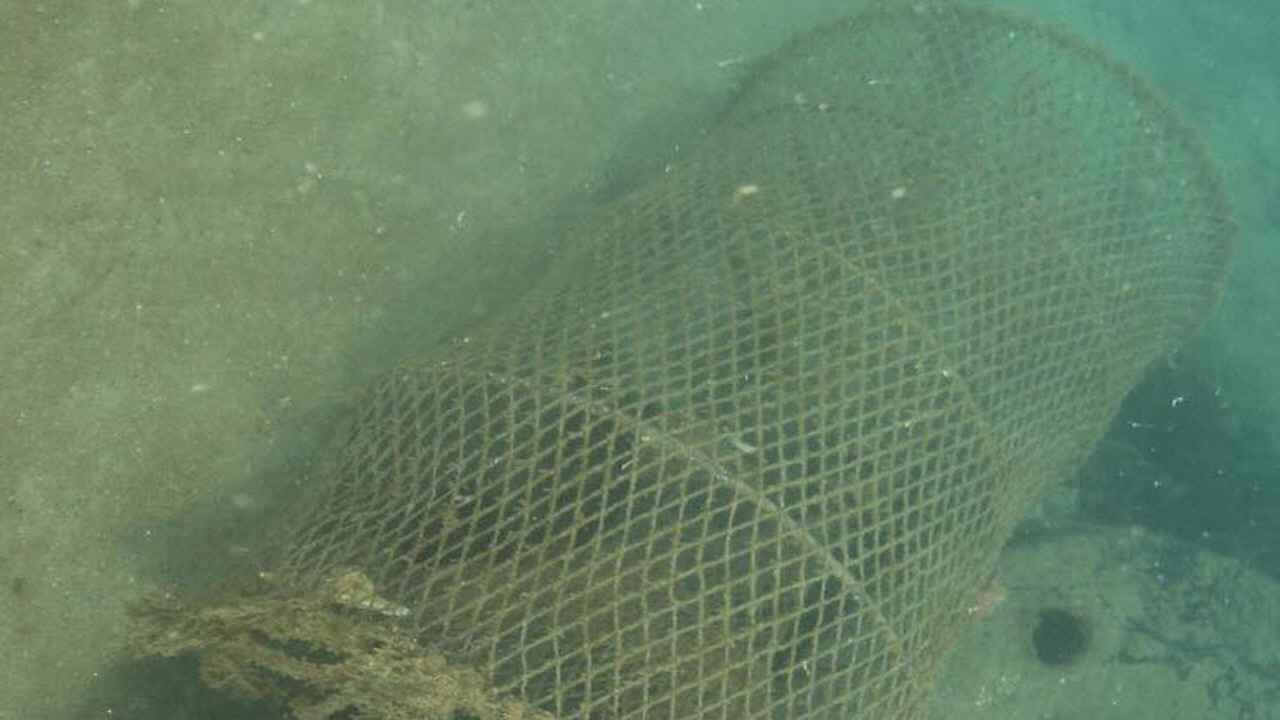spring fish trap: (194, 4, 1234, 720)
